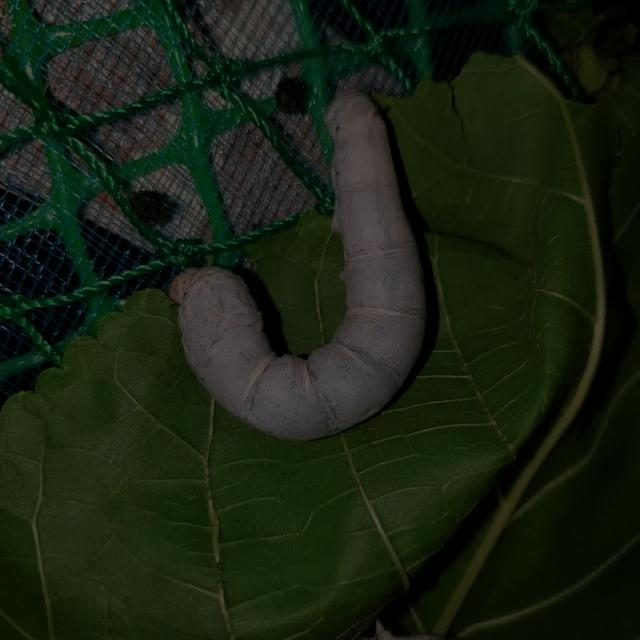Healthy: (150, 87, 441, 452)
